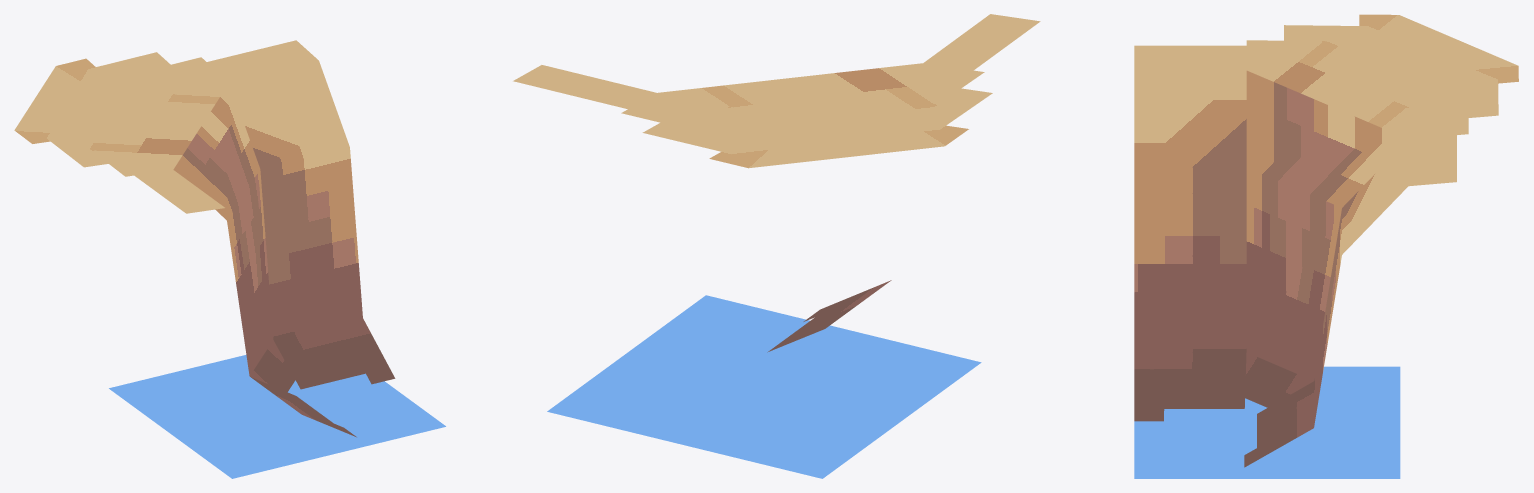
The picture shows the model from 3 angles, left to right: view 1: azimuth 30°, elevation 25°; view 2: azimuth 150°, elevation 25°; view 3: azimuth 270°, elevation 25°; orthographic projection. The views are drawn at different scales.
Bounding box in the file's own units: 0.7246 × 0.627 × 0.7246.
Materials: 2 (2 with a texture image).
